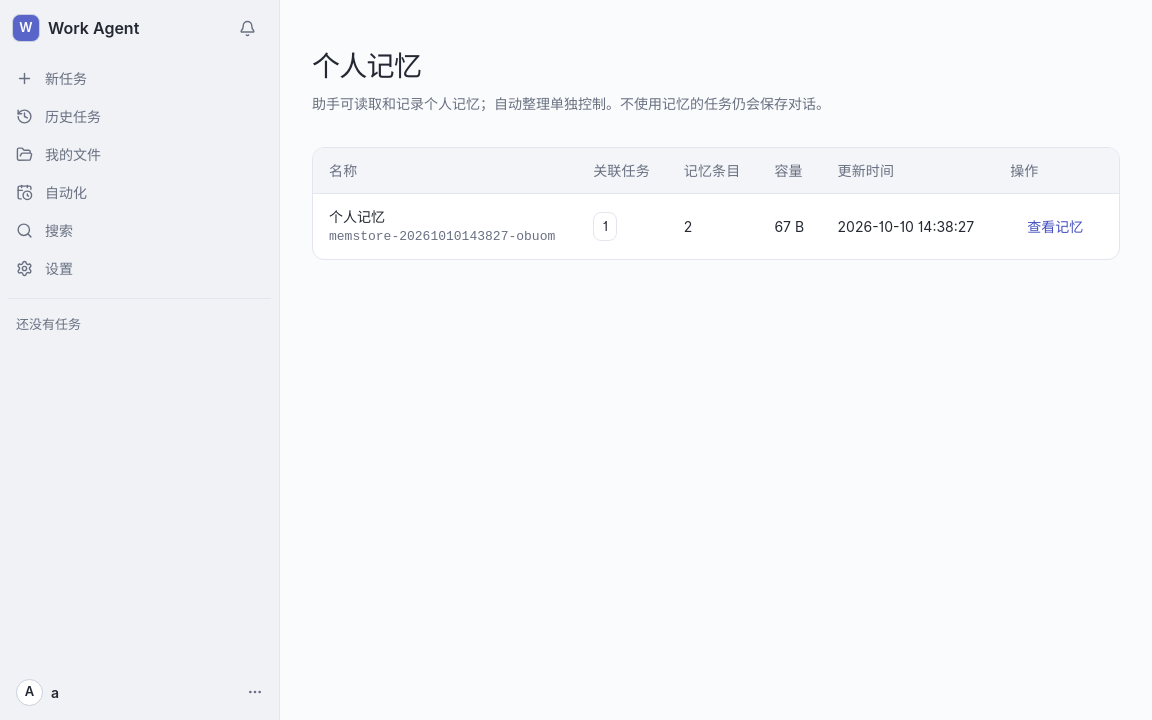
Test: MemoryPage › keeps the editor and avoids false success when queued 保存 enters quarantine
The image size is (1152, 720).
Click the button "查看记忆" at (1055, 227), box x1=1010 y1=207 x2=1100 y2=247
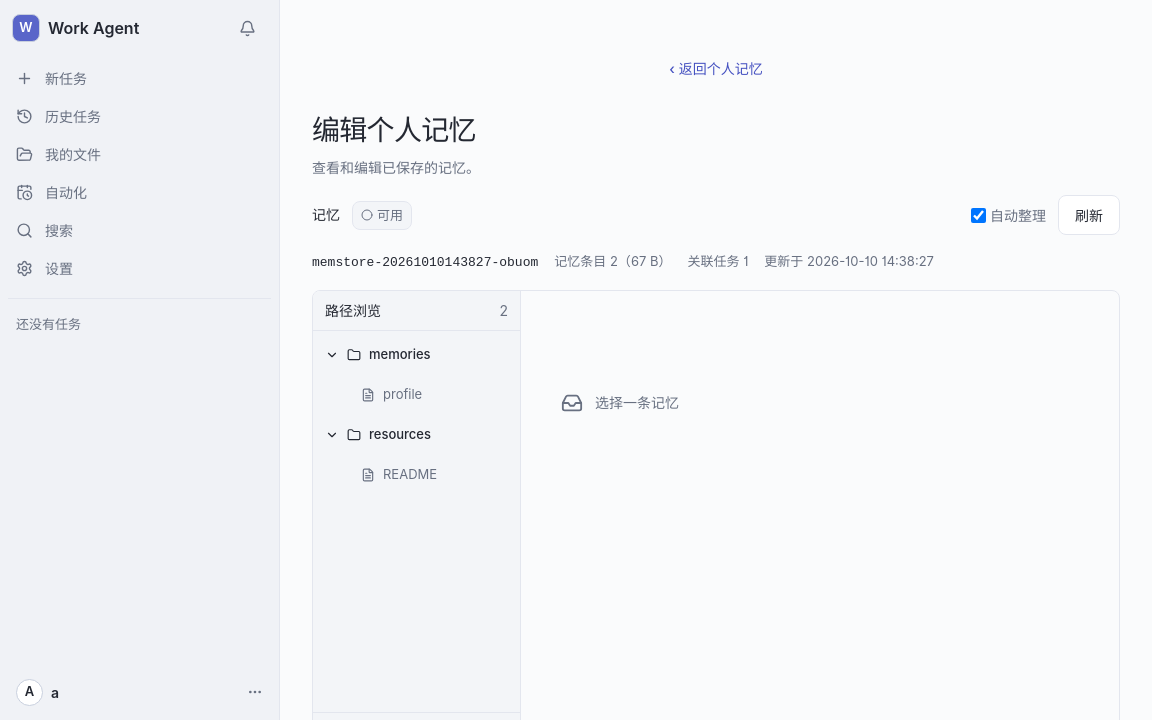
Now the text "路径浏览" is shown, box x1=325 y1=299 x2=381 y2=322
Click the button with aria-label "profile.md" at (416, 395), box x1=317 y1=375 x2=516 y2=415
(page scrolled)
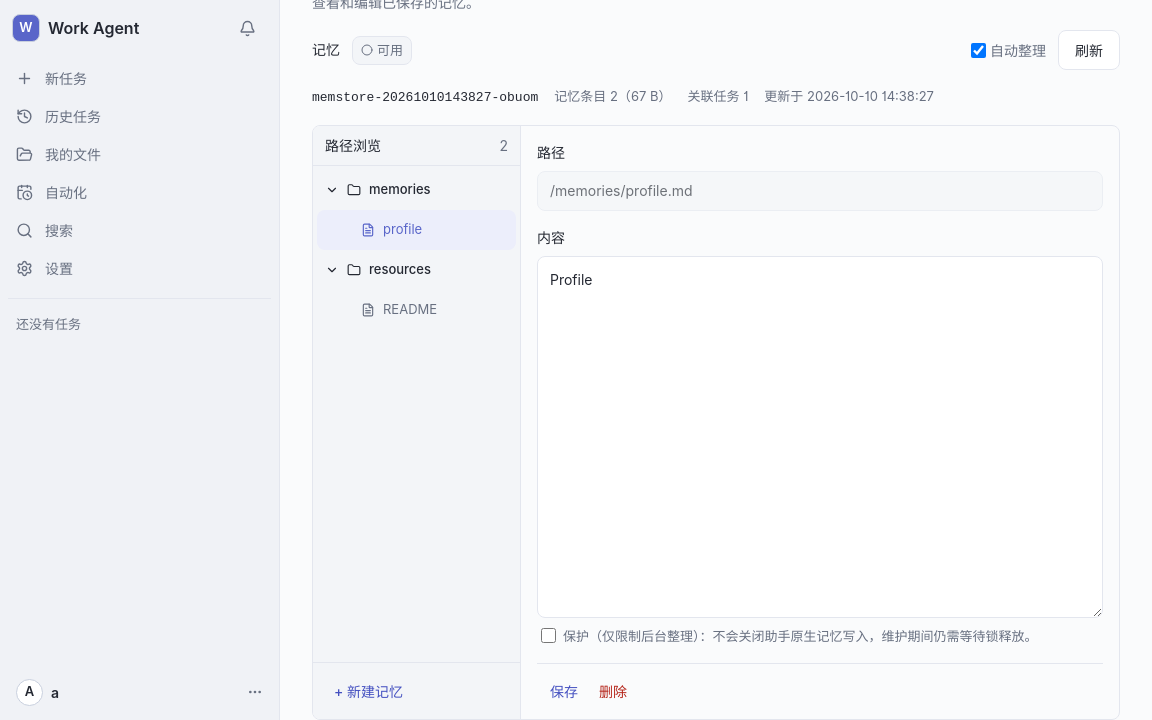
Replace the text in the text box labelled "内容" with "Unconfirmed draft" at (820, 437), box x1=537 y1=256 x2=1103 y2=618
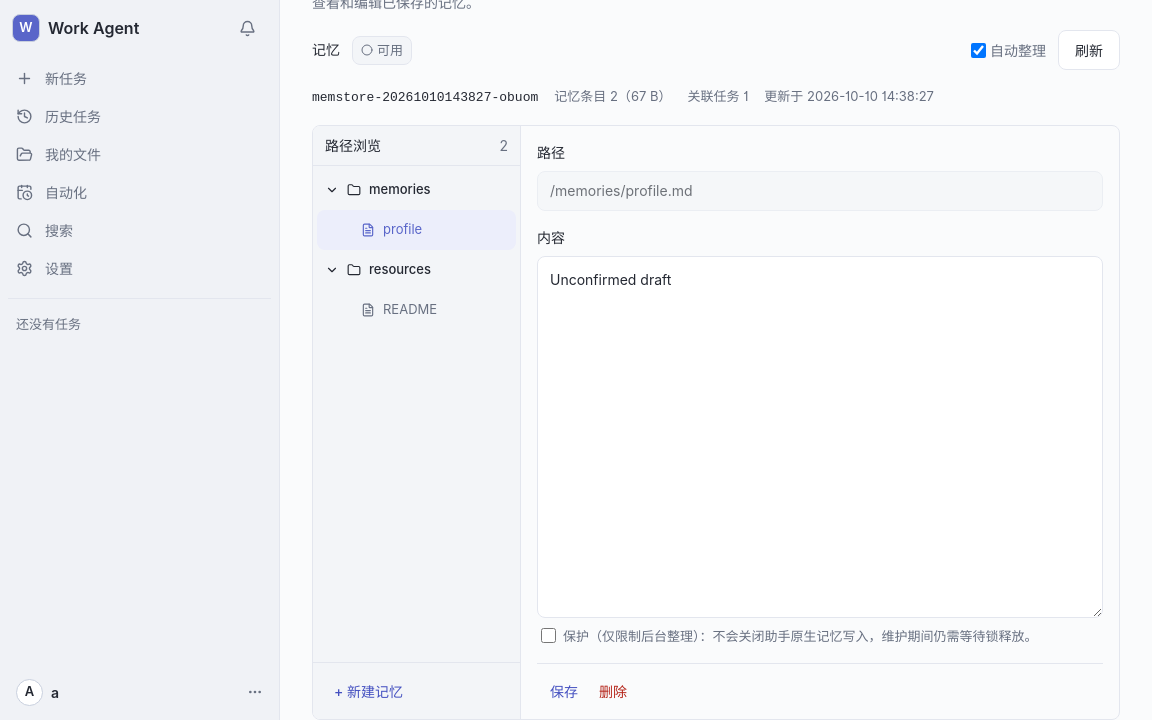
Click the button "保存" at (564, 692), box x1=541 y1=674 x2=587 y2=710
Wait 2000 ms
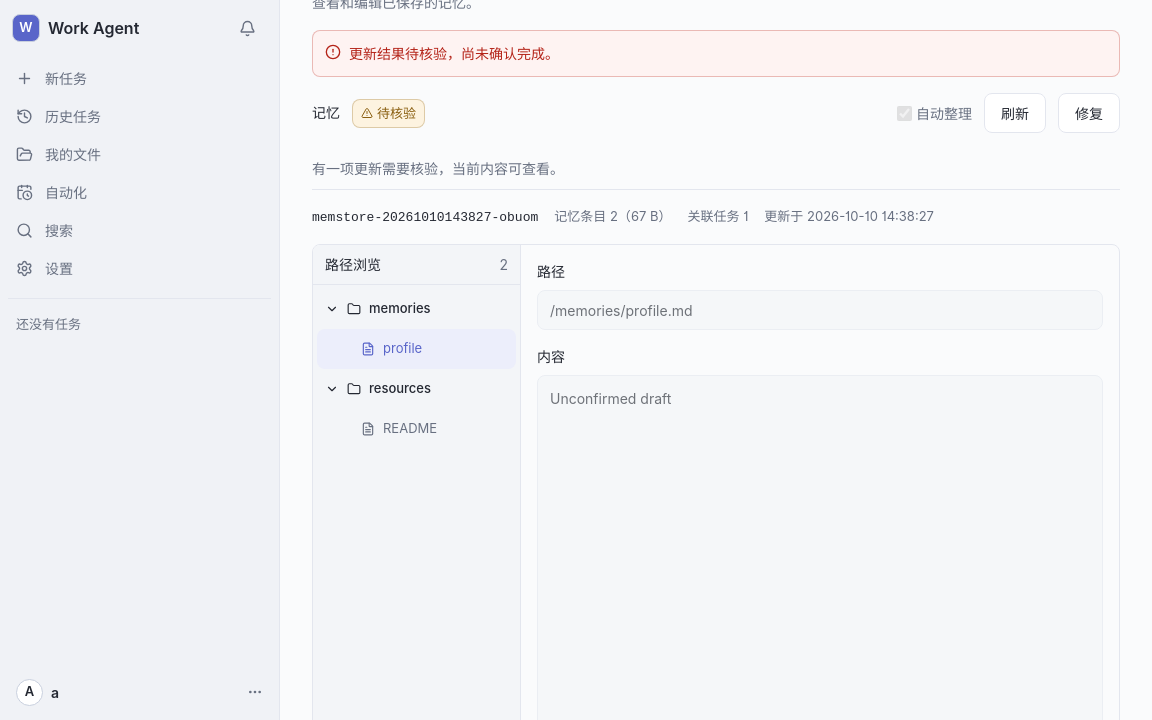
Now the text box labelled "内容" is disabled, box x1=537 y1=375 x2=1103 y2=719
Now the text "更新结果待核验，尚未确认完成。" is shown, box x1=349 y1=46 x2=559 y2=62
Now the button "修复" is enabled
Click the button "修复" at (1089, 114), box x1=1058 y1=94 x2=1120 y2=134
Wait 2000 ms
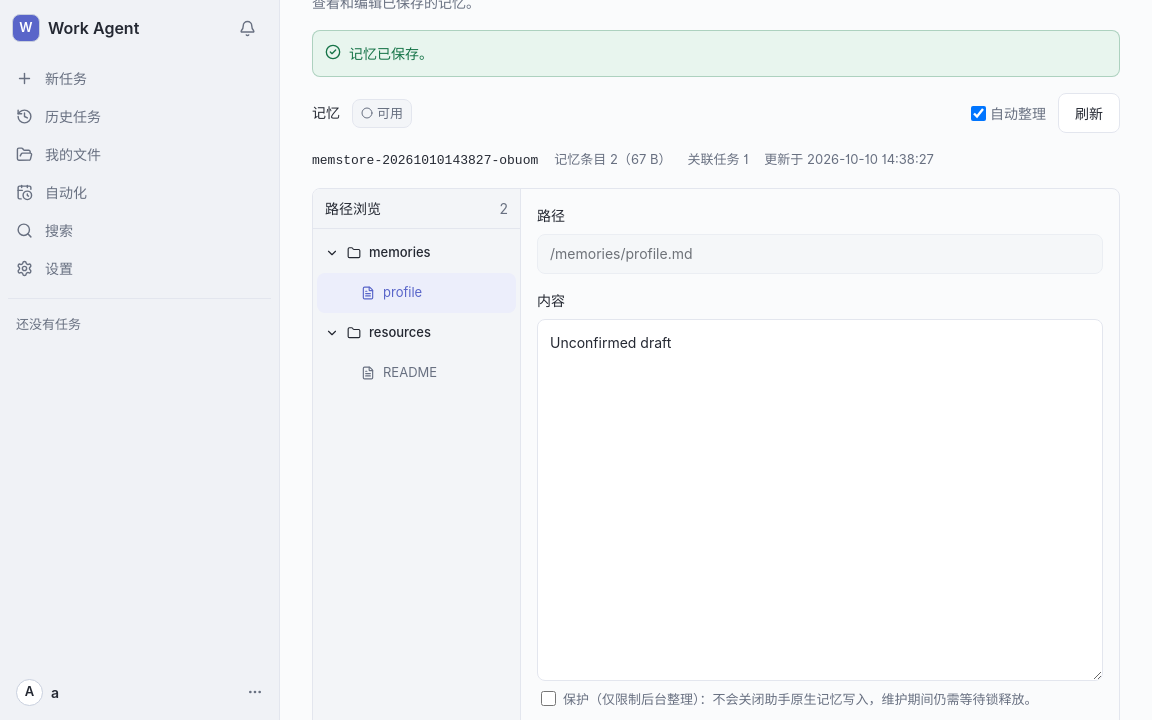
Now the text "记忆已保存。" is shown, box x1=349 y1=46 x2=433 y2=62
